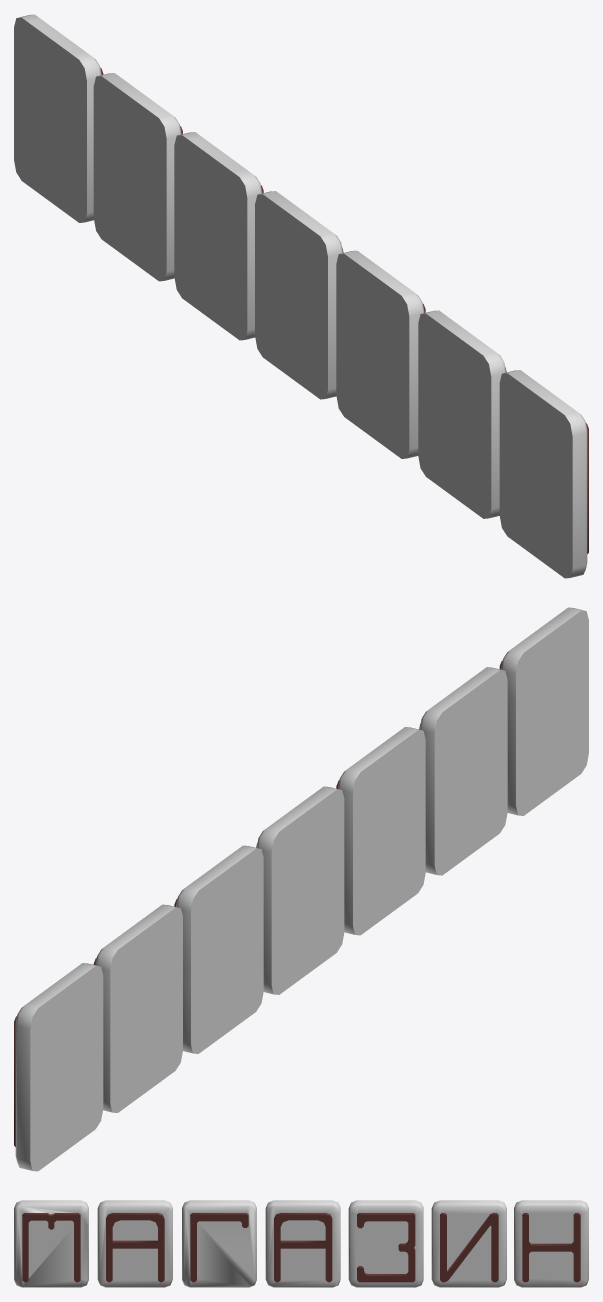
File: ShopSign.fbx
3 renders of one model, top to bottom at view 1: azimuth 30°, elevation 25°; view 2: azimuth 150°, elevation 25°; view 3: azimuth 270°, elevation 25°, orthographic. The views are drawn at different scales.
Visible parts, largest first — view 1: Operator 's room.003; view 2: Operator 's room.003; view 3: Operator 's room.003.
Boxes of the visible parts, x1,y1,x2,y2 form: Operator 's room.003: (14,14,588,578); Operator 's room.003: (14,607,588,1171); Operator 's room.003: (14,1200,588,1287).
Size of the model in its own units: 12.56 by 79.96 by 496.
